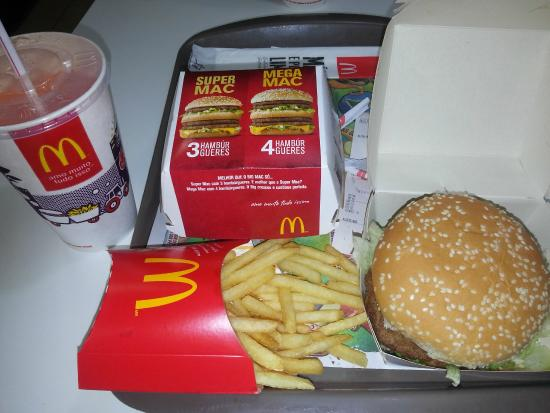mcdonalds: (134, 248, 203, 323), (34, 133, 88, 177), (276, 212, 309, 235)
